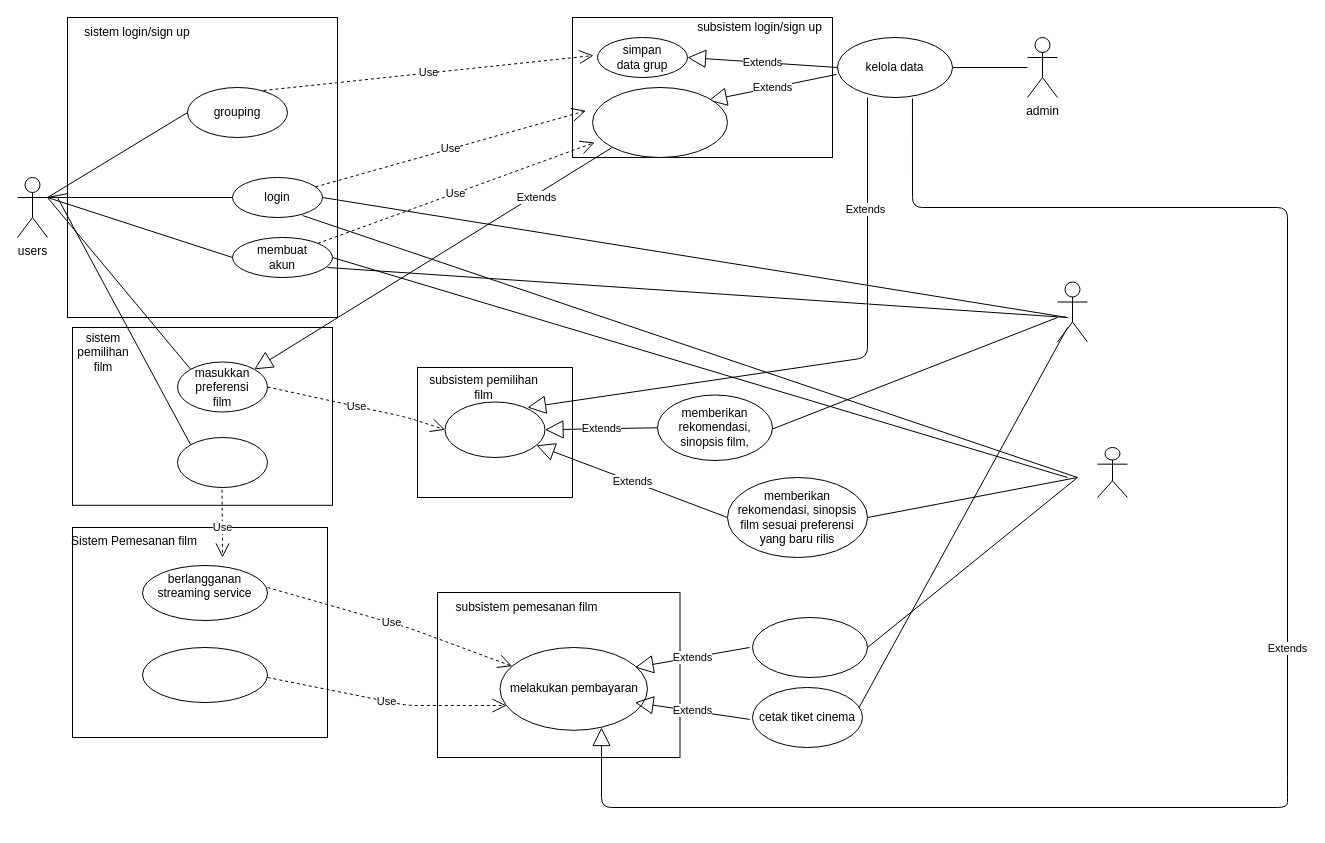
This 1325x843 diagram has some shape labels left out. The shapes that lost their labels are listed below. From the top down, each one's box as (x1, y1, x2, y2) in pixels, then its label:
(592, 86, 728, 158): simpan data user, Cinema dan streaming service
(1056, 281, 1088, 342): Streaming Service
(444, 401, 545, 458): catat preferensi user
(176, 436, 268, 488): memilih film
(1096, 446, 1128, 498): cinema
(752, 616, 868, 678): cetak bukti berlangganan
(142, 646, 268, 702): memesan tiket cinema
